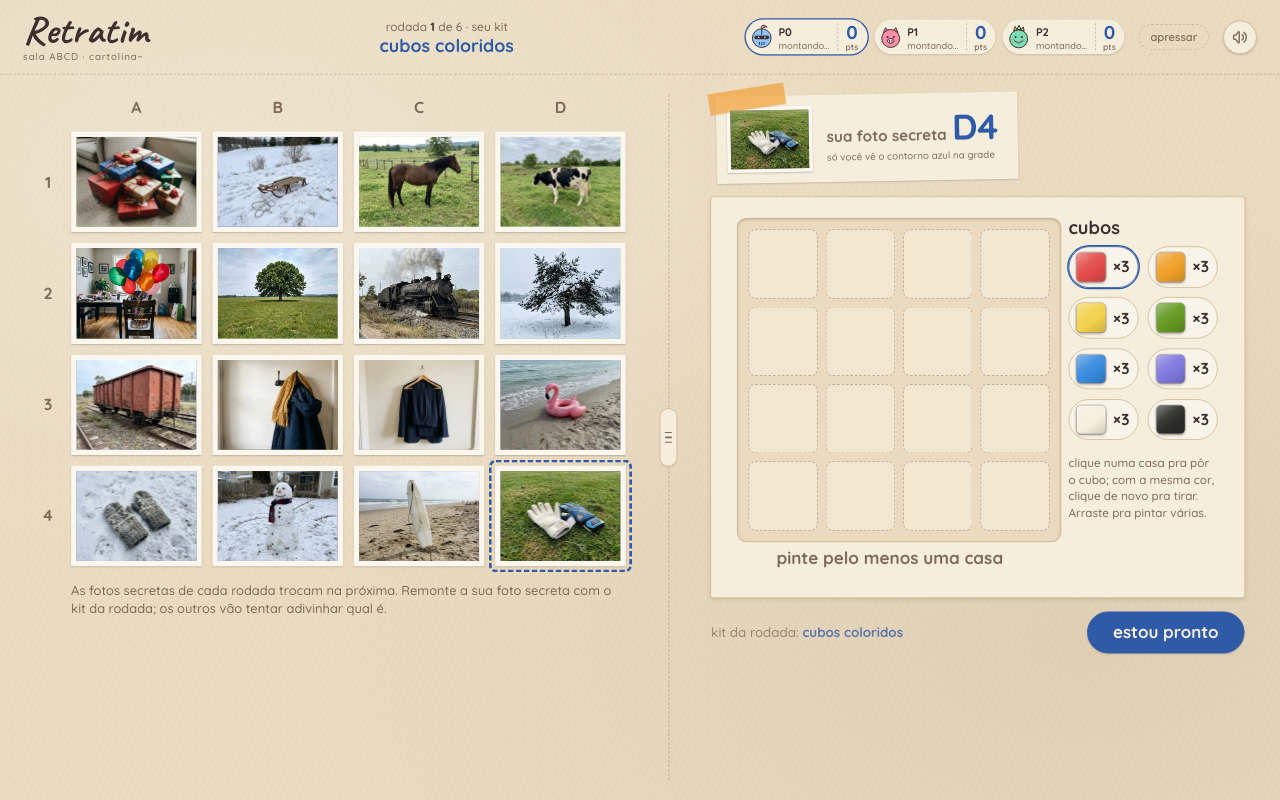
Test: mesa do Retratim: montagem › "estou pronto" sem mexer não manda nada e avisa no palco
Click the button "estou pronto": (1166, 632) [1087,612,1244,653]
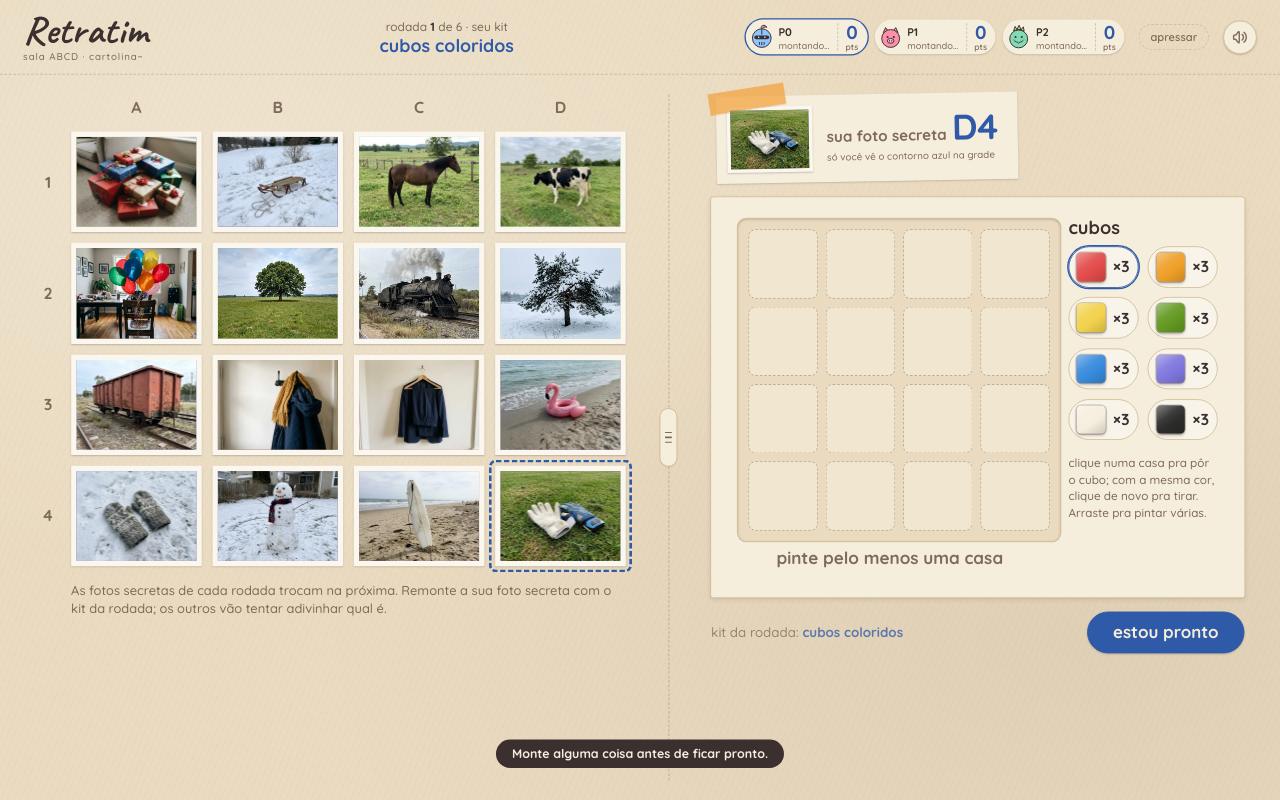
Expected: the text "Monte alguma coisa antes de ficar pronto." is shown, [496,740,784,768]
